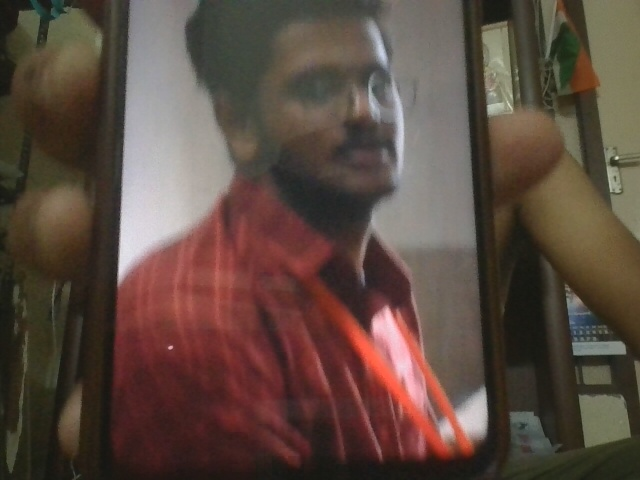fake: (264, 18, 433, 187)
